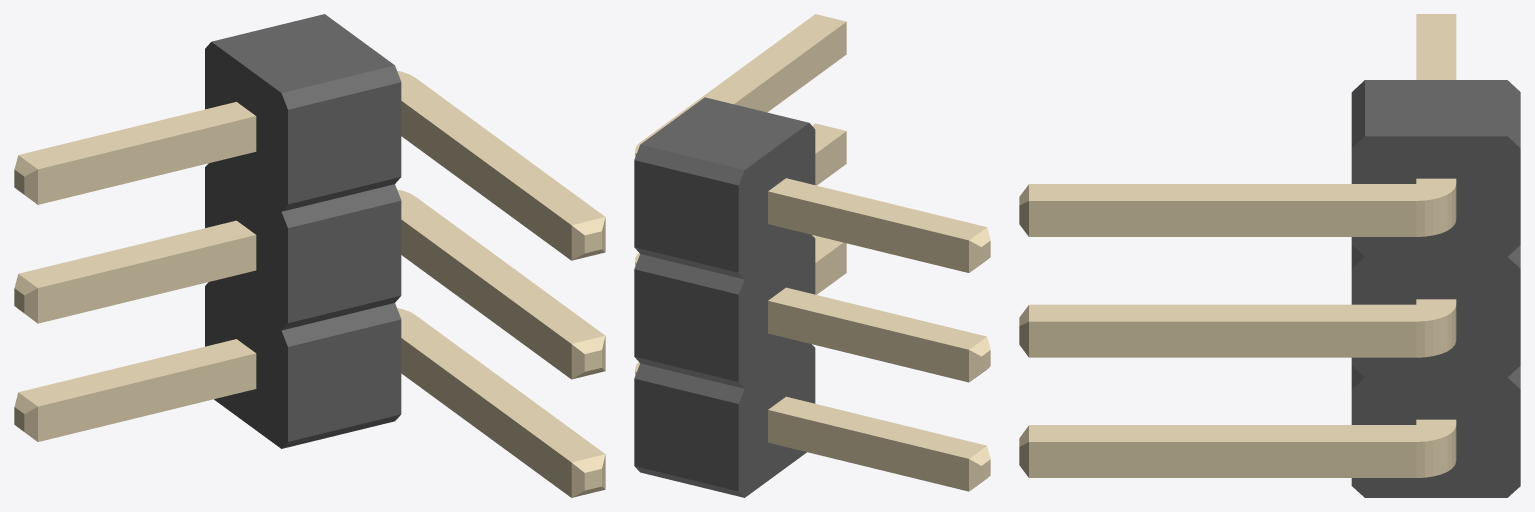
The model's file is PinHeader_1x03_P1.00mm_Horizontal.glb.
The picture shows the model from 3 angles, left to right: view 1: azimuth 30°, elevation 25°; view 2: azimuth 150°, elevation 25°; view 3: azimuth 270°, elevation 25°; orthographic projection. The views are drawn at different scales.
Parts seen in each view (by area): view 1: Shape_IndexedFaceSet.004, Shape_IndexedFaceSet.016, Shape_IndexedFaceSet.010, Shape_IndexedFaceSet.002, Shape_IndexedFaceSet.036, Shape_IndexedFaceSet.042, Shape_IndexedFaceSet.038, Shape_IndexedFaceSet.001, Shape_IndexedFaceSet.023, Shape_IndexedFaceSet.029, Shape_IndexedFaceSet.033, Shape_IndexedFaceSet.049 (+11 smaller); view 2: Shape_IndexedFaceSet.004, Shape_IndexedFaceSet.019, Shape_IndexedFaceSet.013, Shape_IndexedFaceSet.007, Shape_IndexedFaceSet.040, Shape_IndexedFaceSet.044, Shape_IndexedFaceSet.034, Shape_IndexedFaceSet.001, Shape_IndexedFaceSet.033, Shape_IndexedFaceSet.035, Shape_IndexedFaceSet.041, Shape_IndexedFaceSet.045 (+11 smaller); view 3: Shape_IndexedFaceSet.003, Shape_IndexedFaceSet.053, Shape_IndexedFaceSet.047, Shape_IndexedFaceSet.058, Shape_IndexedFaceSet.001, Shape_IndexedFaceSet.029, Shape_IndexedFaceSet.023, Shape_IndexedFaceSet.033, Shape_IndexedFaceSet.045, Shape_IndexedFaceSet.052, Shape_IndexedFaceSet.046, Shape_IndexedFaceSet.057 (+2 smaller).
Part boxes in pixels (<box>): Shape_IndexedFaceSet.004: <box>205,42,287,448</box>; Shape_IndexedFaceSet.016: <box>288,319,401,441</box>; Shape_IndexedFaceSet.010: <box>288,201,401,322</box>; Shape_IndexedFaceSet.002: <box>288,82,401,204</box>; Shape_IndexedFaceSet.036: <box>38,353,256,441</box>; Shape_IndexedFaceSet.042: <box>38,116,256,204</box>; Shape_IndexedFaceSet.038: <box>38,235,256,323</box>; Shape_IndexedFaceSet.001: <box>212,14,394,92</box>; Shape_IndexedFaceSet.023: <box>397,308,604,462</box>; Shape_IndexedFaceSet.029: <box>397,189,604,343</box>; Shape_IndexedFaceSet.033: <box>397,70,604,224</box>; Shape_IndexedFaceSet.049: <box>401,338,571,497</box>; Shape_IndexedFaceSet.004: <box>738,123,815,497</box>; Shape_IndexedFaceSet.019: <box>634,378,738,491</box>; Shape_IndexedFaceSet.013: <box>634,269,738,381</box>; Shape_IndexedFaceSet.007: <box>634,160,738,272</box>; Shape_IndexedFaceSet.040: <box>768,301,968,382</box>; Shape_IndexedFaceSet.044: <box>768,191,968,272</box>; Shape_IndexedFaceSet.034: <box>768,410,968,491</box>; Shape_IndexedFaceSet.001: <box>640,97,808,169</box>; Shape_IndexedFaceSet.033: <box>635,14,846,153</box>; Shape_IndexedFaceSet.035: <box>768,396,986,458</box>; Shape_IndexedFaceSet.041: <box>768,287,986,349</box>; Shape_IndexedFaceSet.045: <box>768,178,986,240</box>; Shape_IndexedFaceSet.003: <box>1351,136,1520,497</box>; Shape_IndexedFaceSet.053: <box>1029,321,1416,357</box>; Shape_IndexedFaceSet.047: <box>1029,442,1416,477</box>; Shape_IndexedFaceSet.058: <box>1029,201,1416,236</box>; Shape_IndexedFaceSet.001: <box>1365,80,1507,136</box>; Shape_IndexedFaceSet.029: <box>1029,299,1456,321</box>; Shape_IndexedFaceSet.023: <box>1029,419,1456,441</box>; Shape_IndexedFaceSet.033: <box>1029,178,1456,200</box>; Shape_IndexedFaceSet.045: <box>1416,14,1456,79</box>; Shape_IndexedFaceSet.052: <box>1416,305,1456,357</box>; Shape_IndexedFaceSet.046: <box>1416,425,1456,477</box>; Shape_IndexedFaceSet.057: <box>1416,184,1456,236</box>.
Size of the model in its own units: 1.34 by 1.18 by 1.48.
